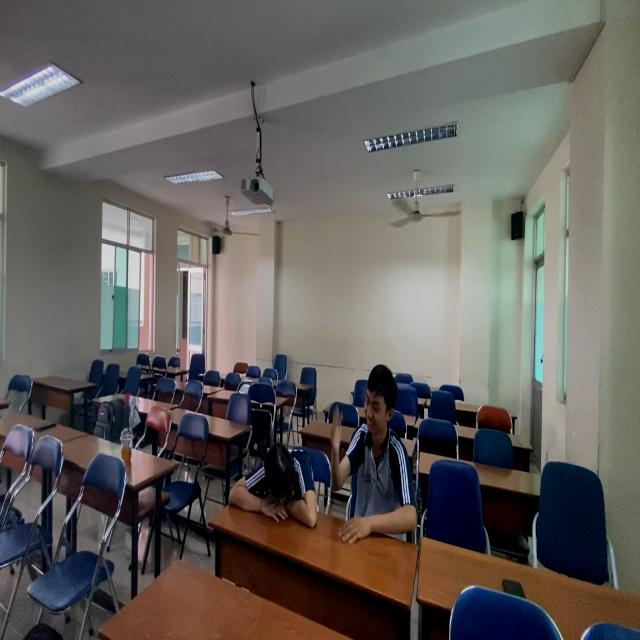raise_hand: (329, 361, 418, 550)
sleep: (222, 430, 318, 531)
